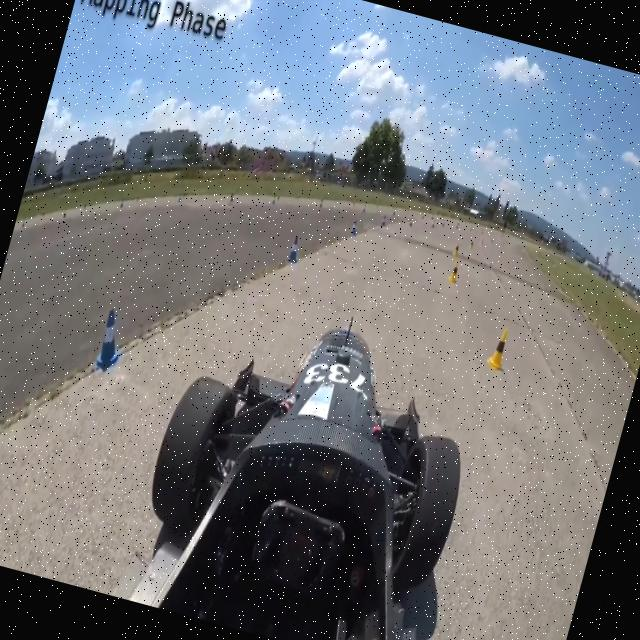blue_cone: (89, 304, 132, 376), (285, 233, 304, 264), (350, 217, 360, 236), (380, 214, 388, 228)
yellow_cone: (483, 324, 512, 372), (446, 260, 462, 284), (451, 240, 462, 258)
